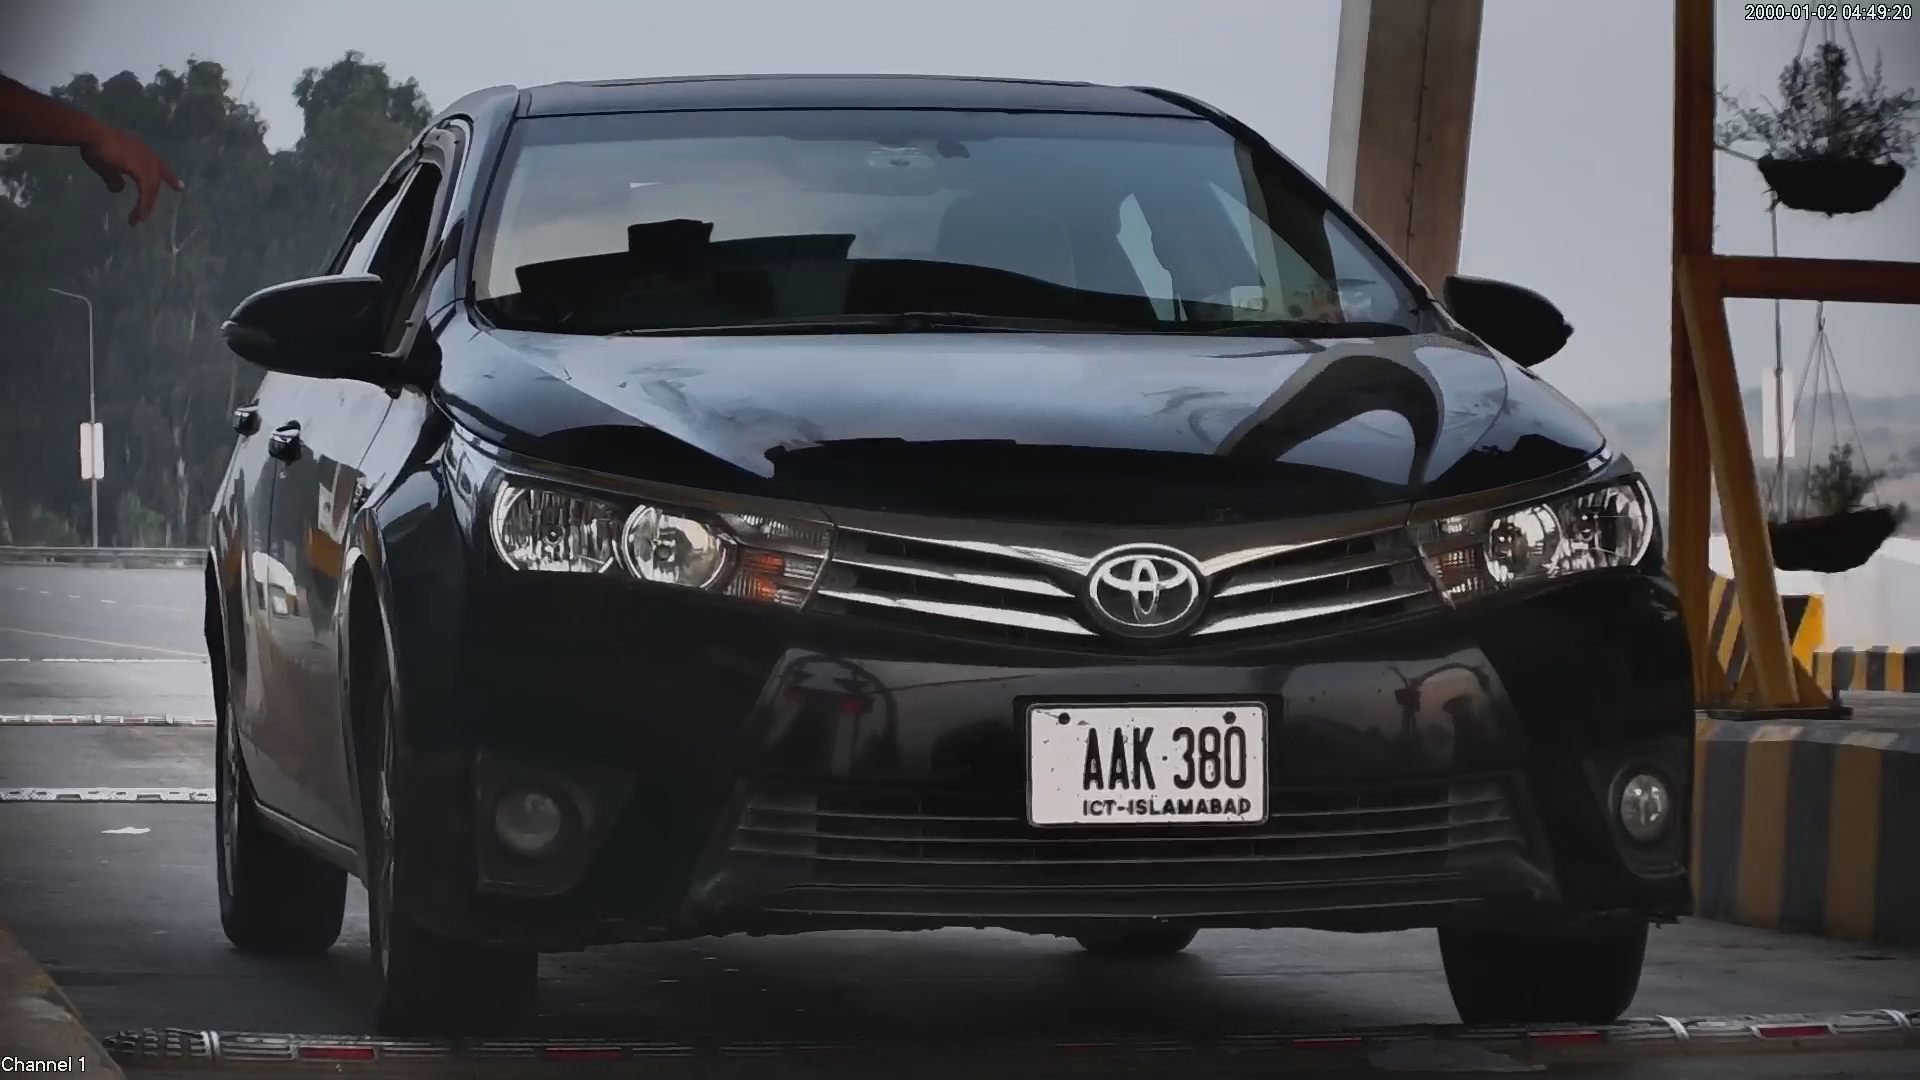Number_Plate: (1012, 686, 1284, 837)
